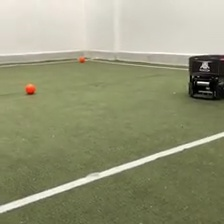ball: (24, 81, 36, 95), (77, 54, 86, 63)
robot: (185, 53, 224, 101)
